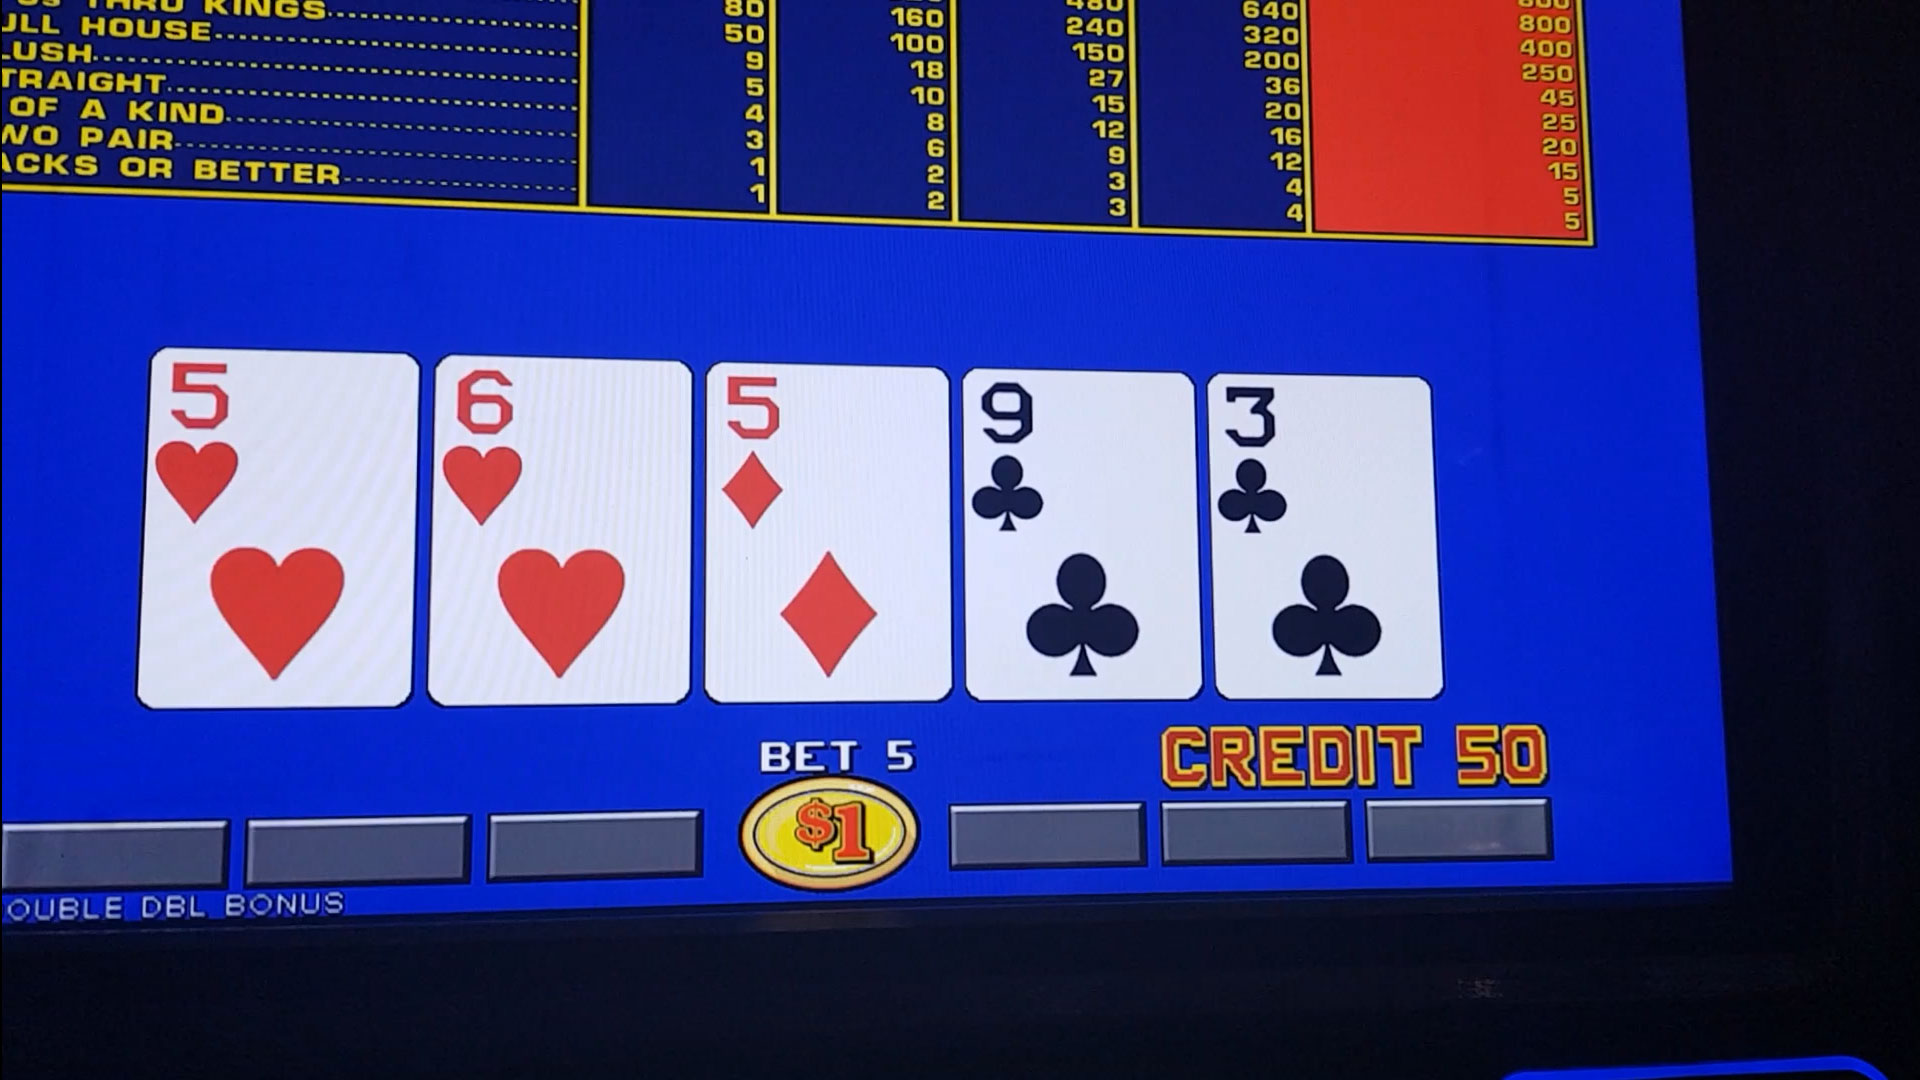C3: (1218, 375, 1420, 546)
C9: (971, 377, 1189, 553)
D5: (713, 375, 942, 549)
H5: (162, 353, 406, 535)
H6: (443, 357, 687, 545)
